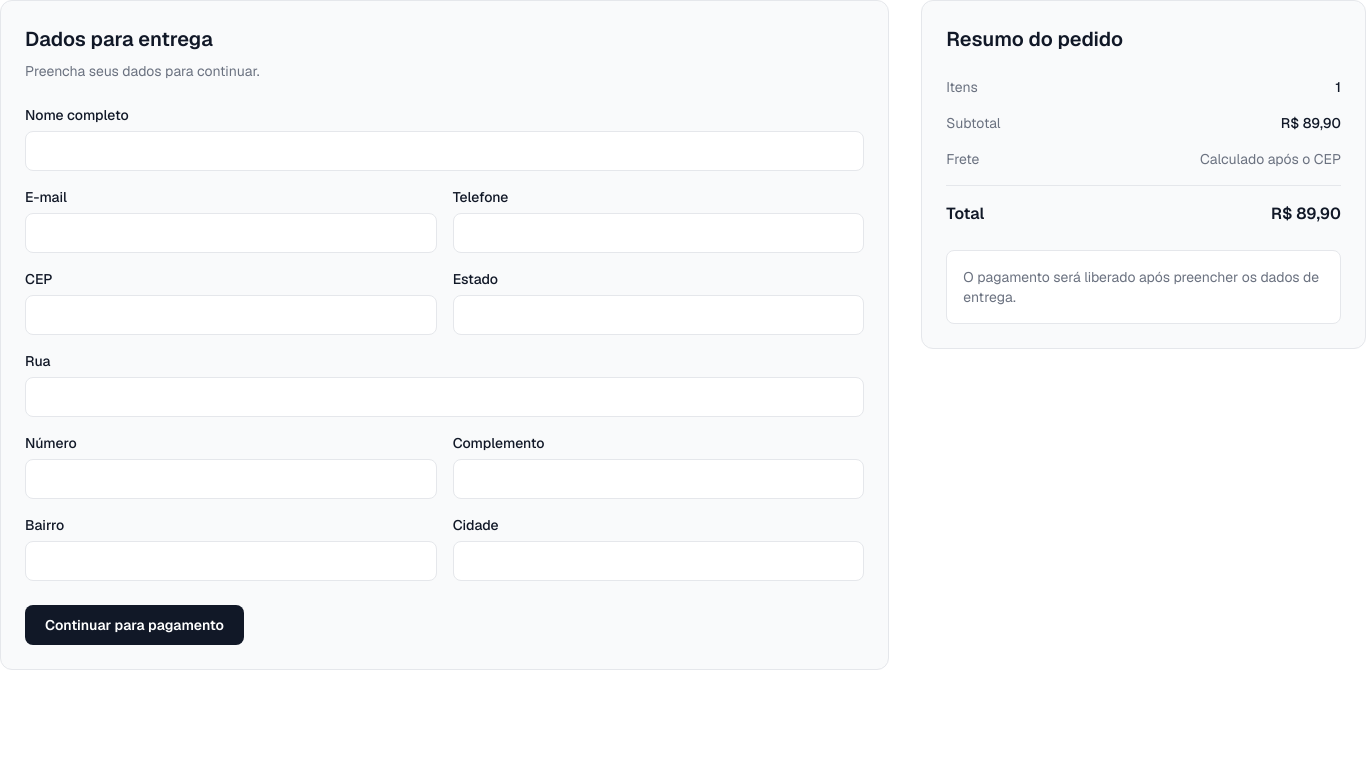
Scenario: CheckoutContent › deve avançar até a revisão
In the field labelled "Nome completo": [445, 151] box left=25, top=131, right=864, bottom=171, type "Guilherme Nobre"
In the field labelled "E-mail": [231, 233] box left=25, top=213, right=437, bottom=253, type "guilherme@example.com"
In the field labelled "Telefone": [659, 233] box left=453, top=213, right=864, bottom=253, type "16999998888"
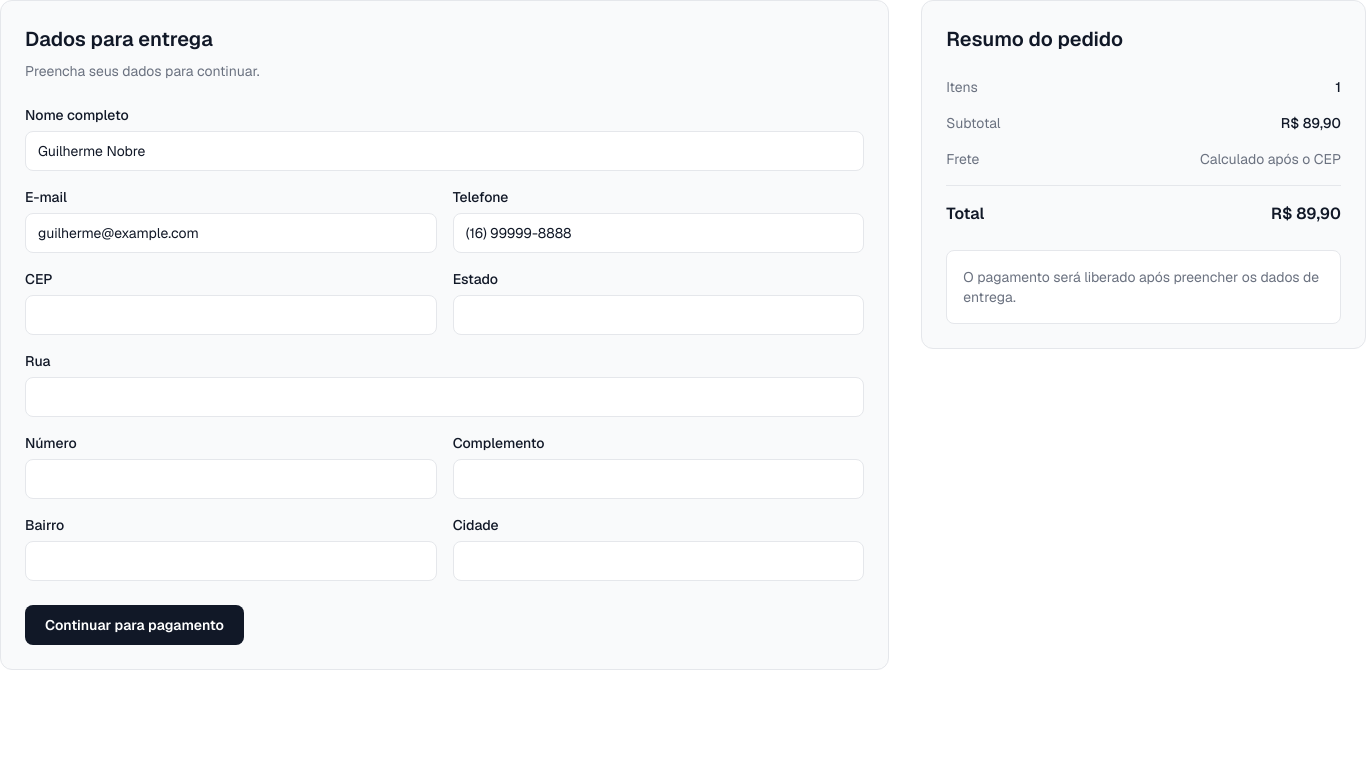
In the field labelled "CEP": [231, 315] box left=25, top=295, right=437, bottom=335, type "14010120"
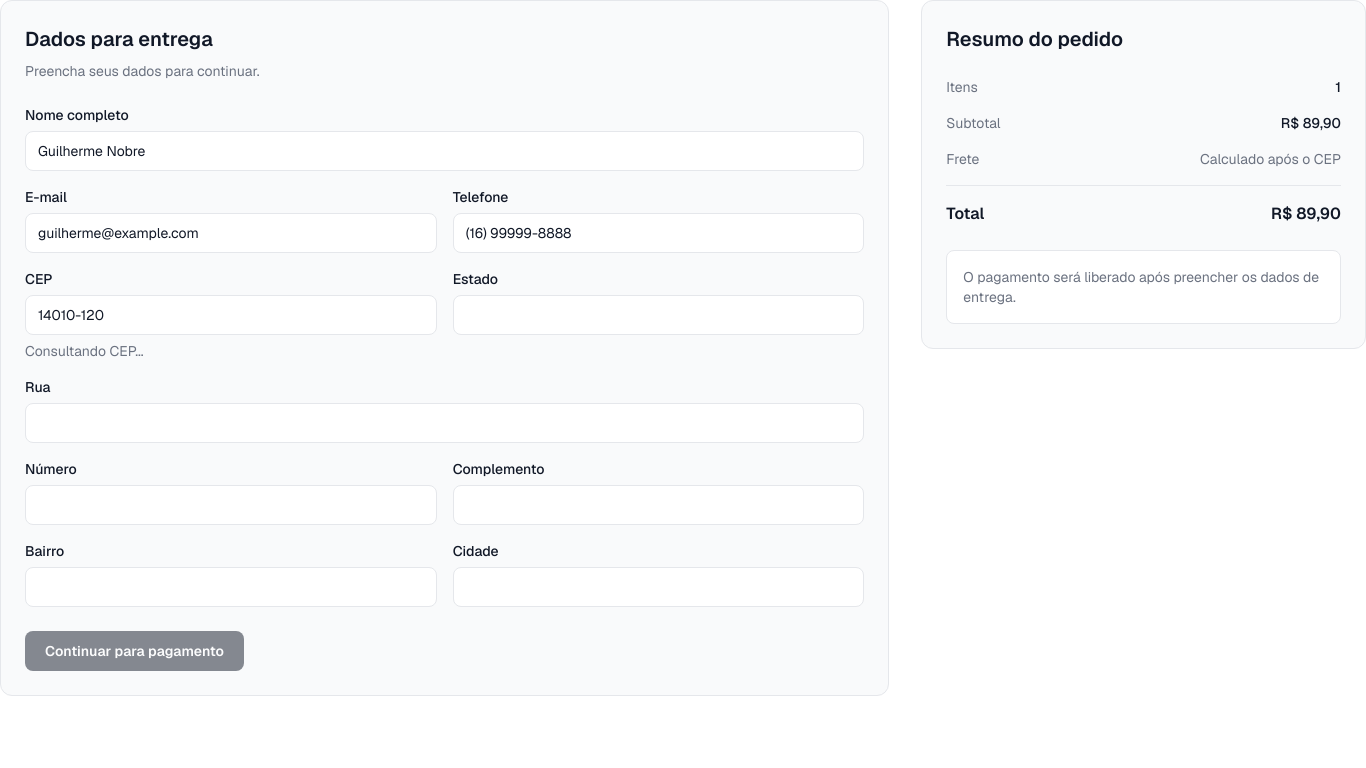
In the field labelled "Número": [231, 505] box left=25, top=485, right=437, bottom=525, type "123"
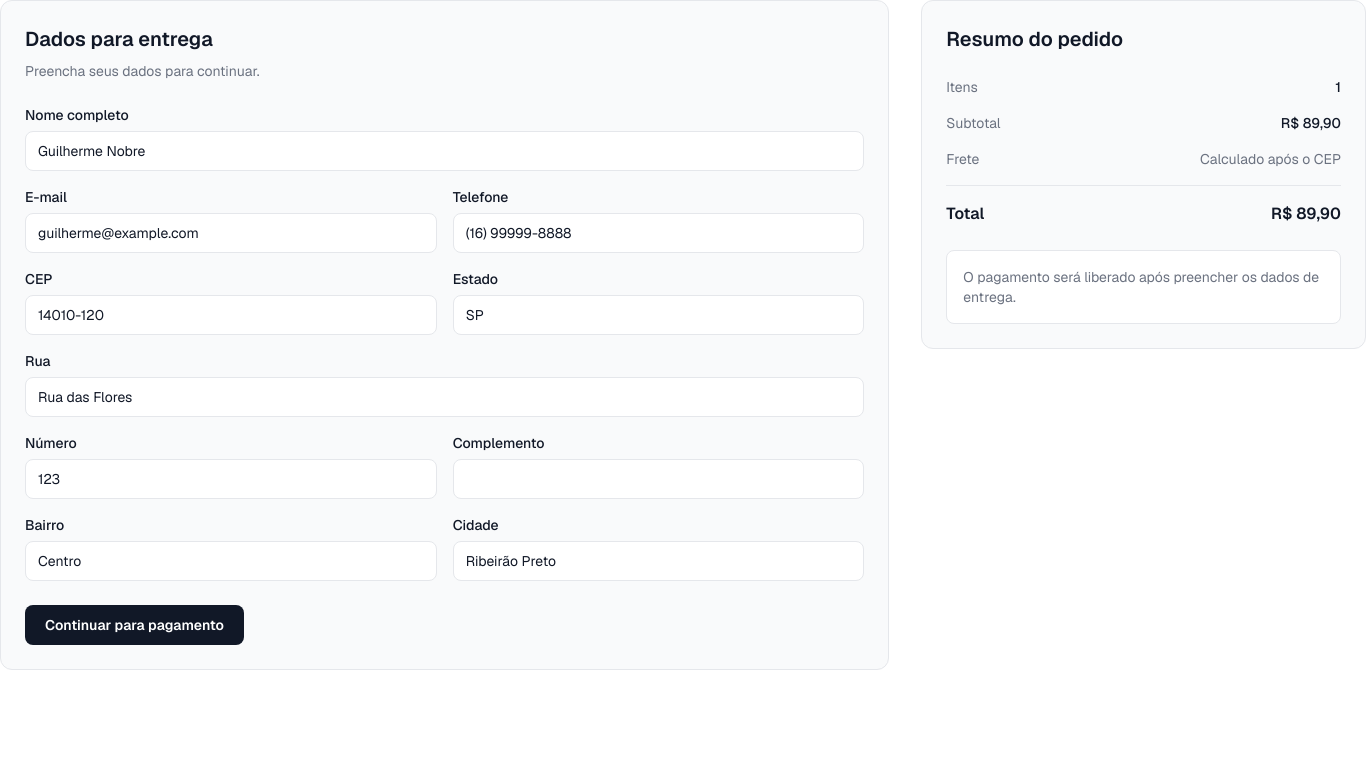
Submit the form named "Continuar para pagamento", box left=0, top=0, right=889, bottom=670
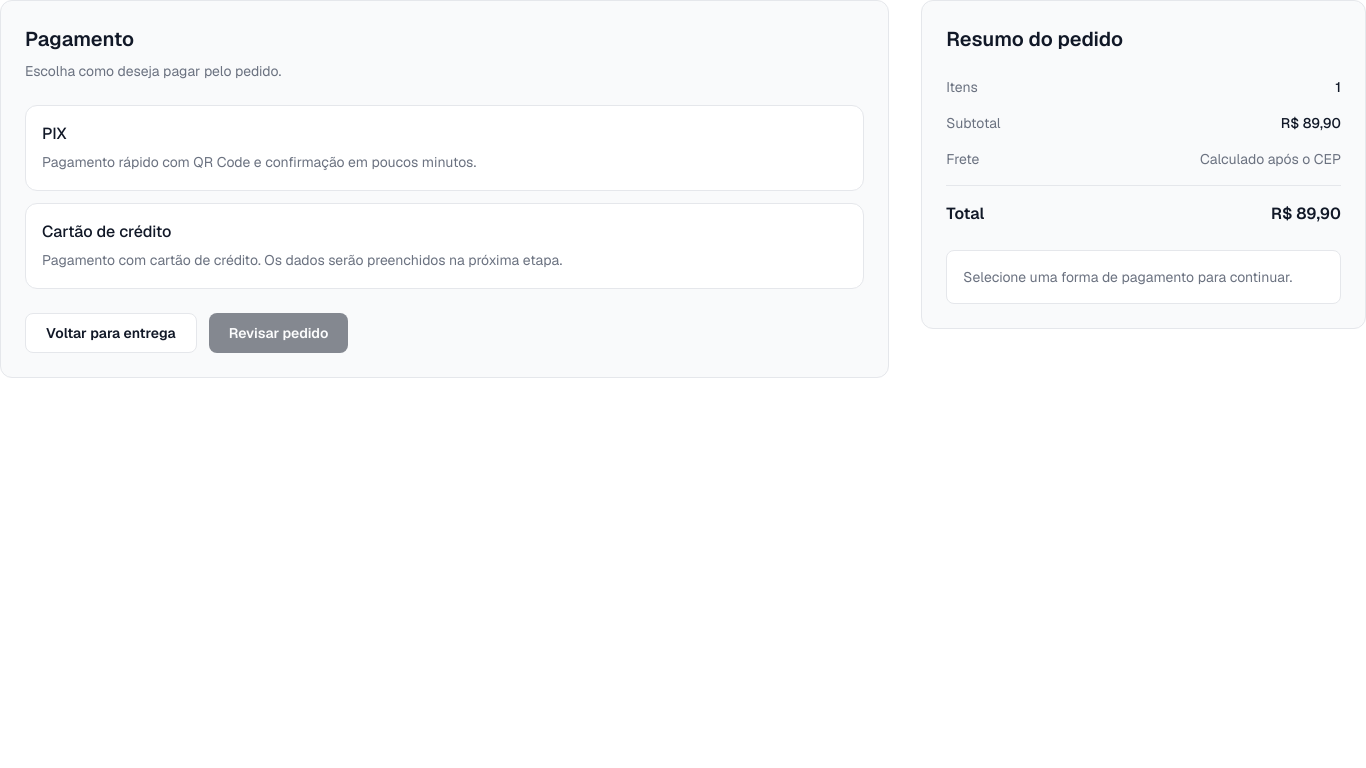
Click the radio button labelled "PIX": [259, 162] box left=25, top=105, right=864, bottom=191
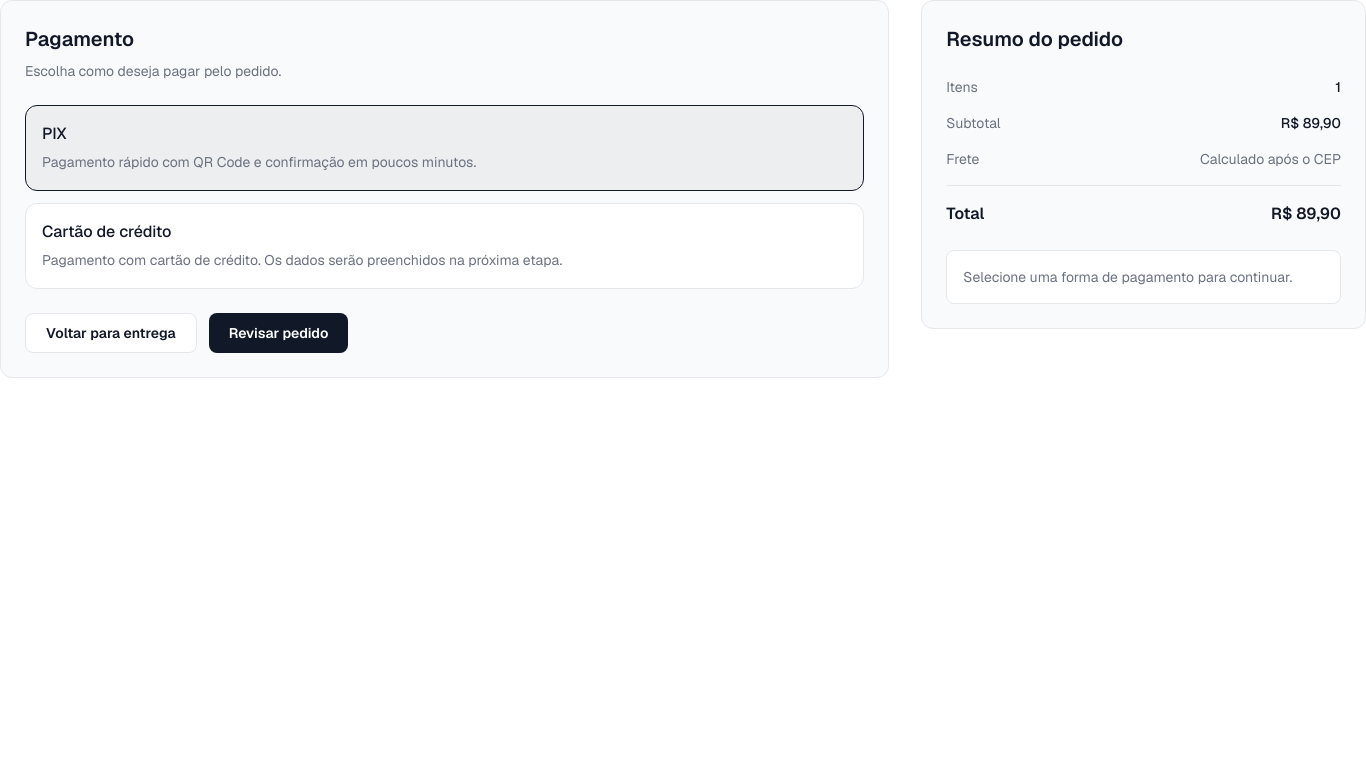
Click the button "Revisar pedido": [278, 333] box left=209, top=313, right=348, bottom=353
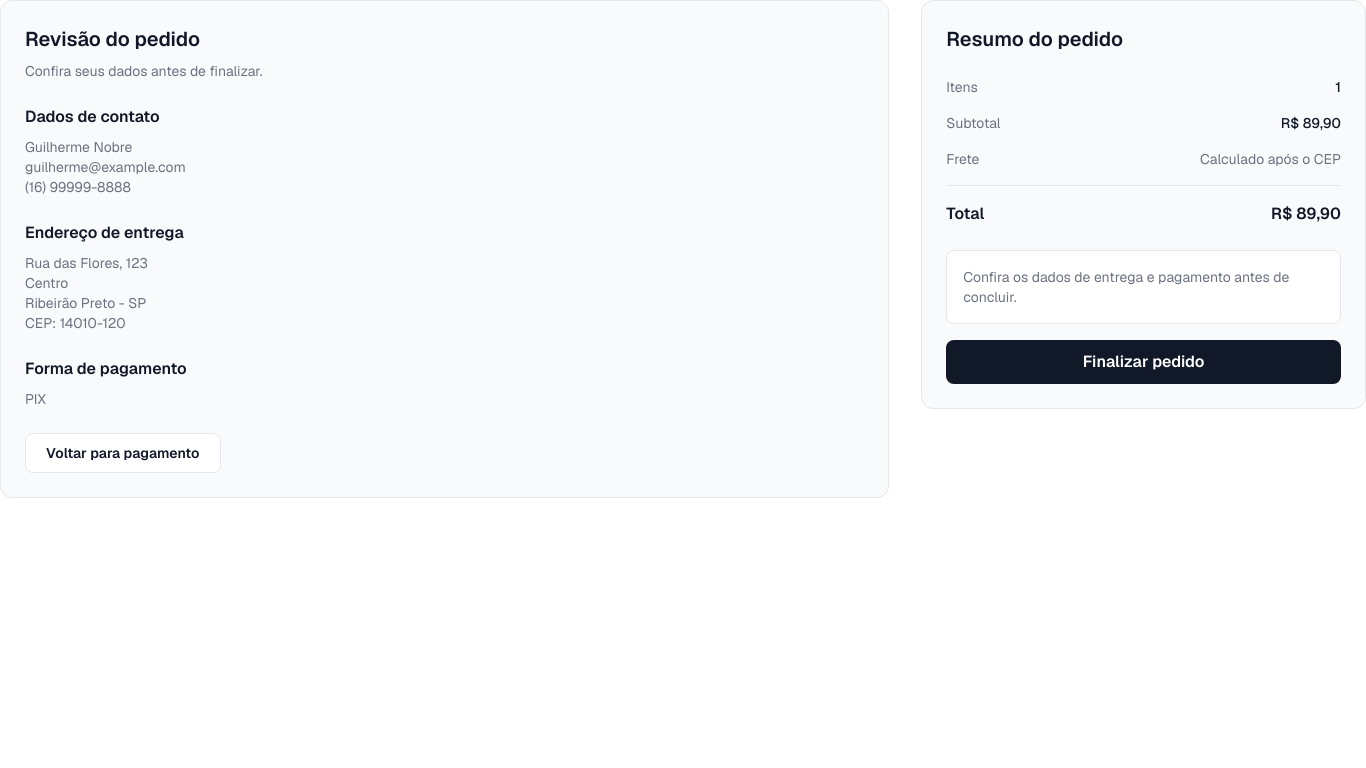
Now the heading "Revisão do pedido" is shown, box left=25, top=26, right=200, bottom=52
Now the text "Guilherme Nobre" is shown, box left=25, top=138, right=132, bottom=156
Now the text "Rua das Flores, 123" is shown, box left=25, top=254, right=148, bottom=272
